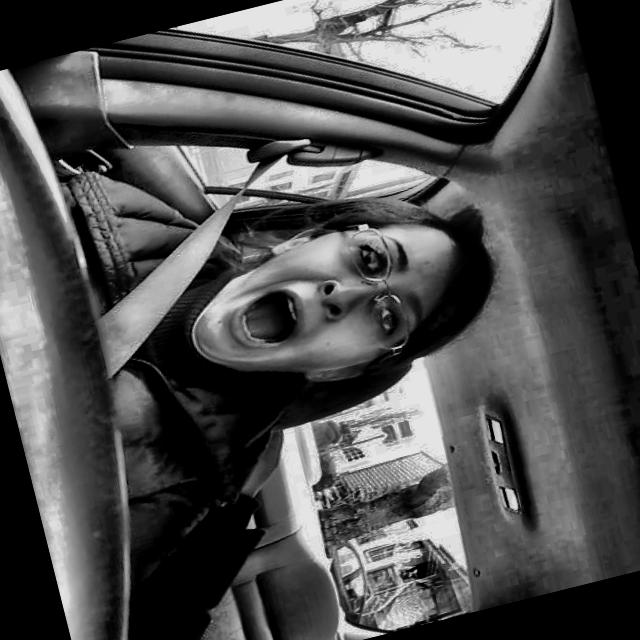open_eyes: (368, 294, 406, 350), (348, 234, 391, 280)
open_mouth: (217, 283, 309, 360)
